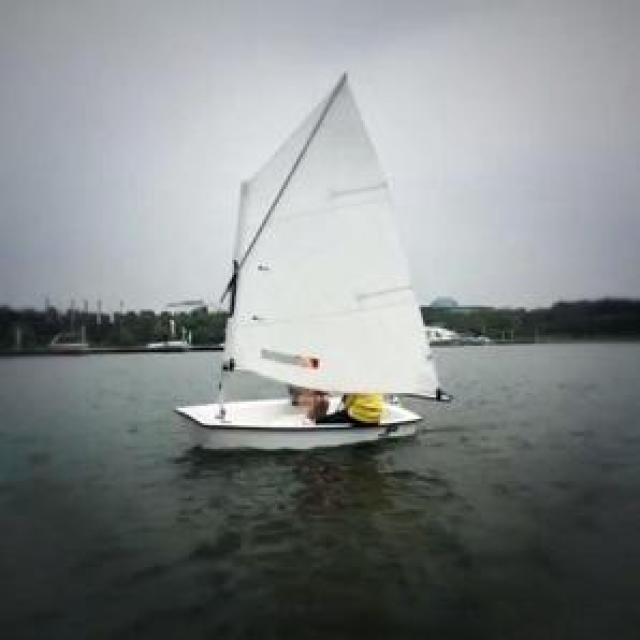sailboat: (172, 69, 424, 444)
